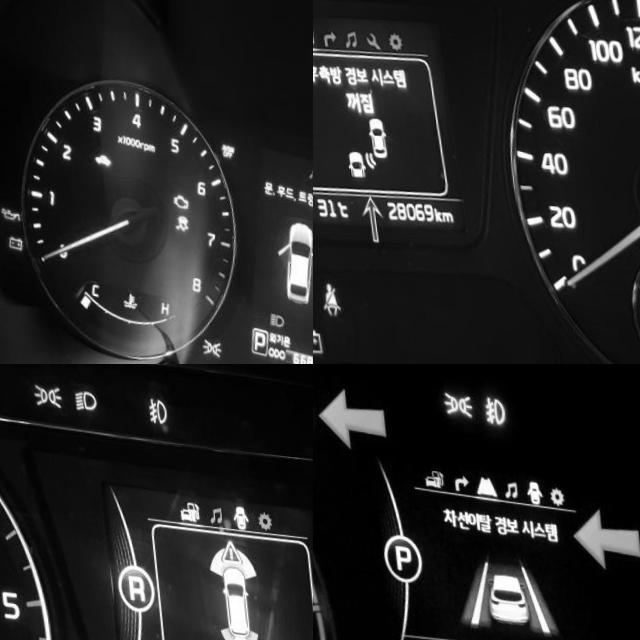FrontFogLight: (479, 387, 503, 419), (143, 389, 165, 419)
LaneCenteringOff: (299, 155, 313, 174)
Low beam: (70, 384, 94, 408)
SideLamp: (437, 383, 470, 411), (29, 378, 58, 406), (190, 330, 213, 353)
